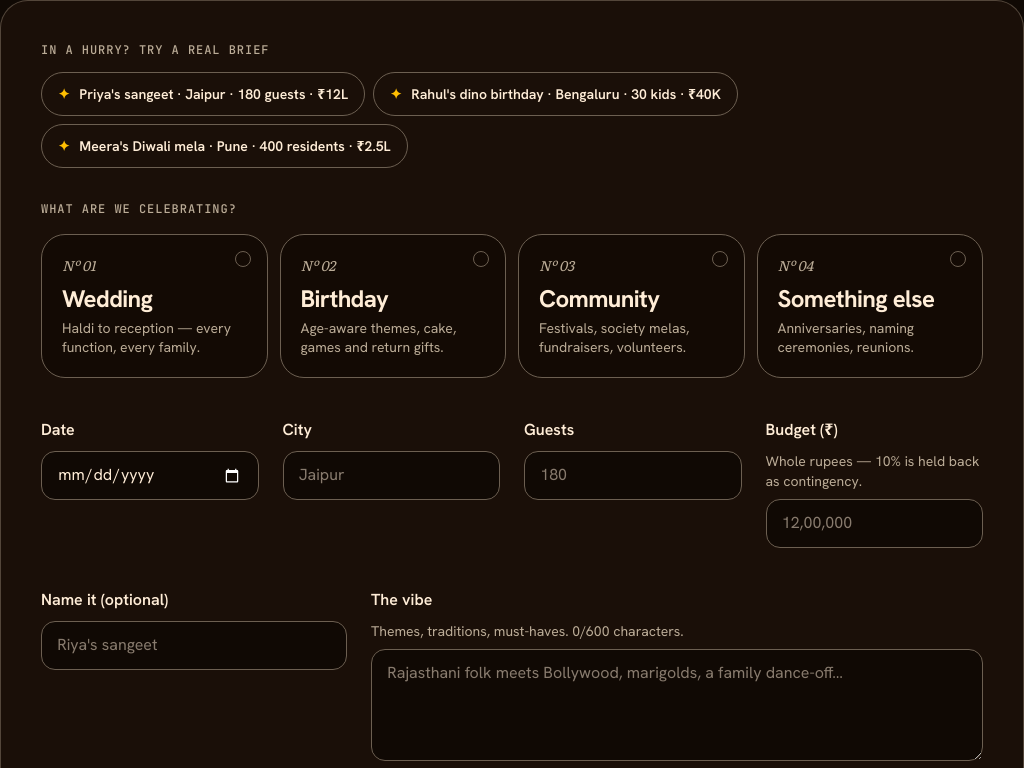
Scenario: PlannerApp › maps server validation issues back onto the form
Click the button "✦ Meera's Diwali mela · Pune · 400 residents · ₹2.5L" at point(224, 146), box [41,124,408,168]
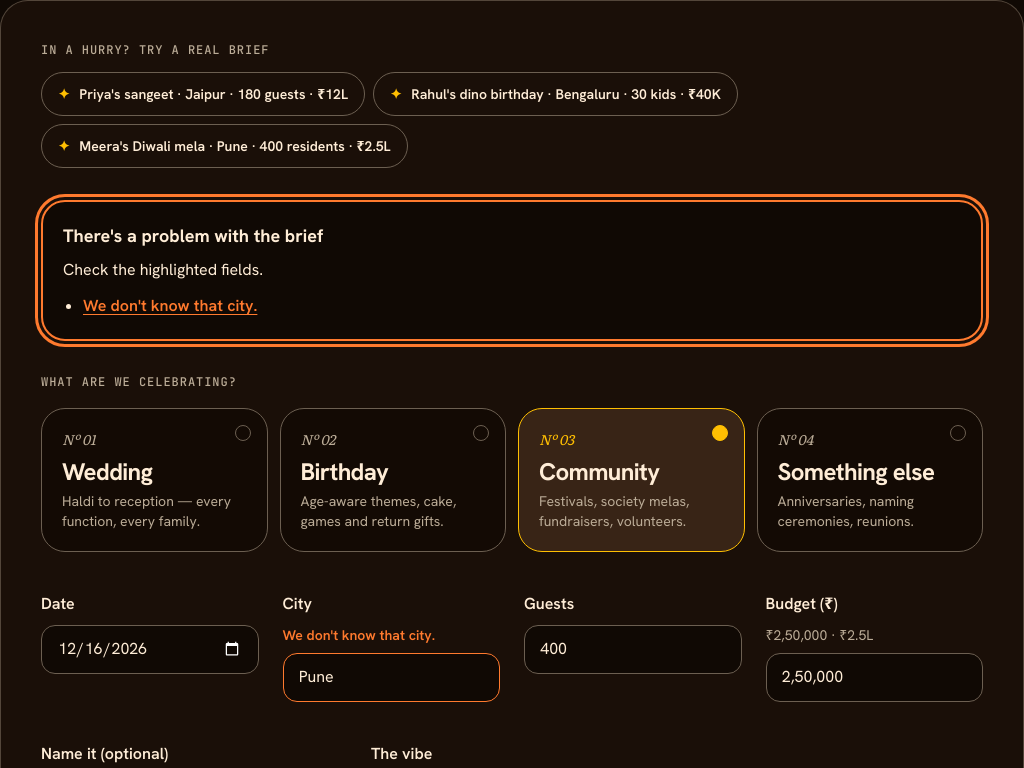
Check: the link "We don't know that city." is shown, box [83,295,257,316]
